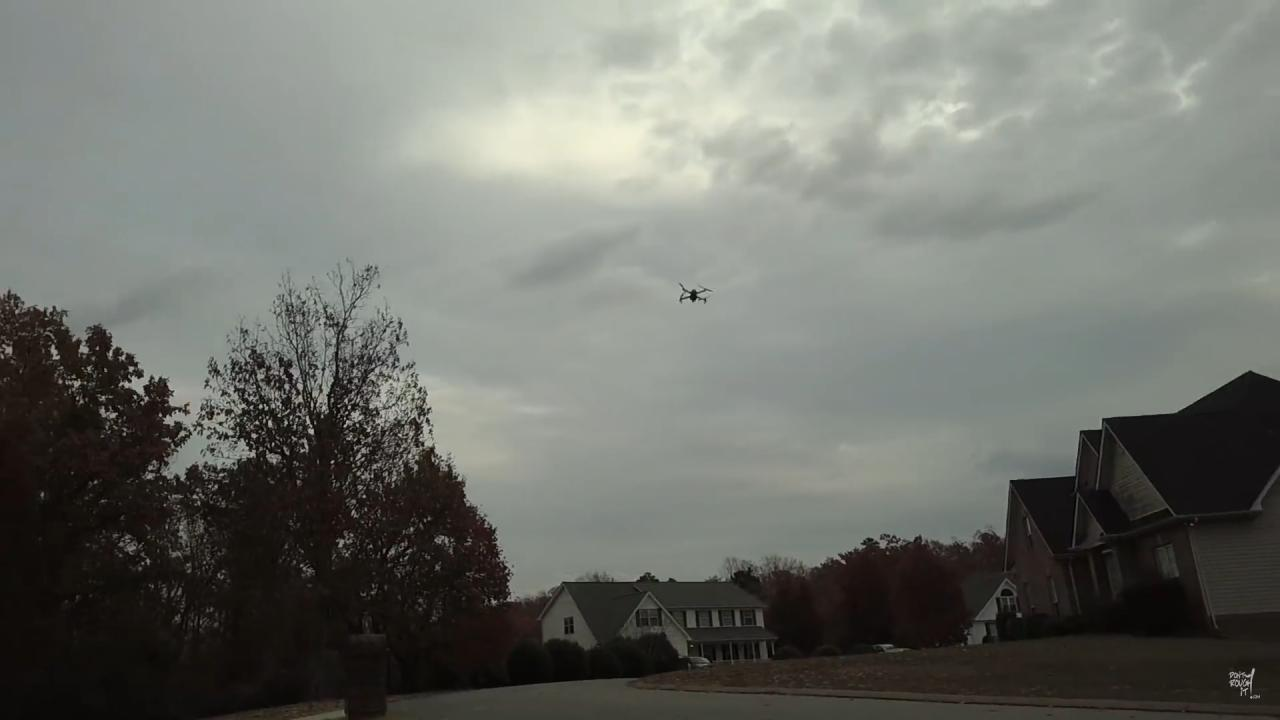Drone: (666, 274, 720, 310)
